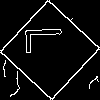L: (25, 25, 72, 54)
